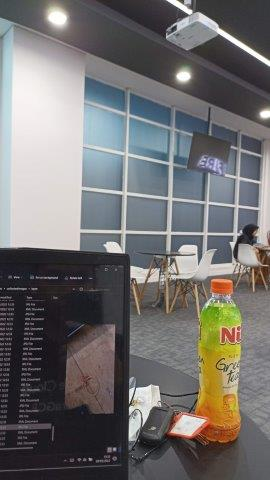botolplastik: (196, 279, 242, 442)
